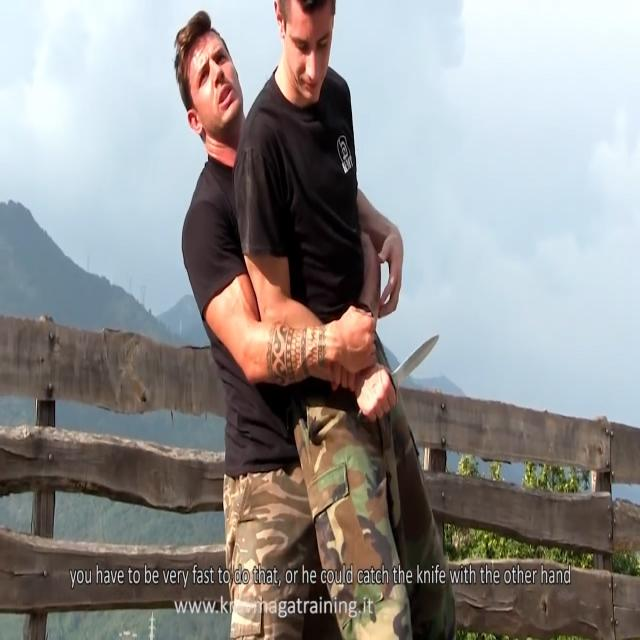knife: (382, 331, 442, 389)
